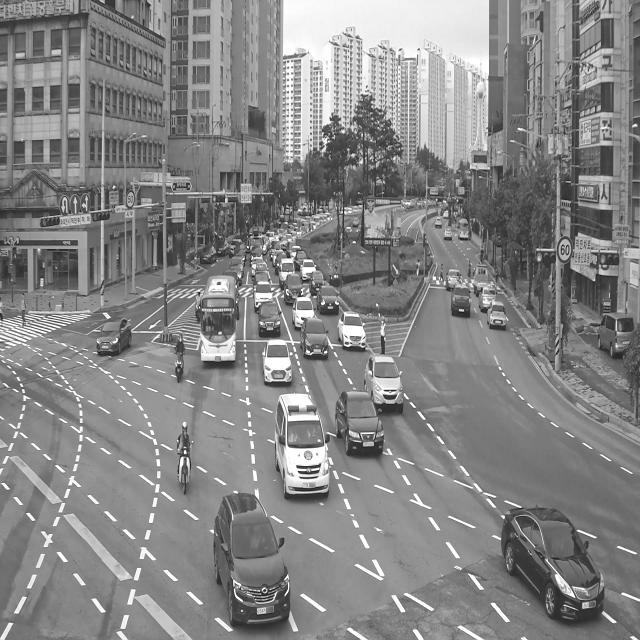Bus: (198, 267, 248, 375), (458, 216, 470, 242)
Car: (497, 478, 604, 638), (210, 482, 300, 640), (270, 387, 340, 505), (334, 381, 388, 470), (362, 334, 414, 413), (334, 290, 374, 366), (593, 302, 636, 360), (90, 307, 135, 362), (260, 328, 298, 393), (297, 304, 331, 364), (448, 277, 474, 326), (257, 300, 283, 336), (290, 297, 318, 329), (486, 298, 507, 333), (318, 285, 341, 315), (284, 273, 303, 302), (253, 282, 275, 307), (478, 286, 498, 311), (222, 269, 239, 295), (300, 258, 317, 283), (199, 242, 216, 266), (310, 270, 324, 296), (214, 236, 229, 257), (446, 268, 460, 290), (252, 274, 270, 291), (228, 254, 244, 272), (226, 263, 242, 278), (251, 257, 265, 273), (296, 251, 308, 268), (276, 253, 286, 273), (289, 244, 300, 262), (273, 248, 284, 266), (250, 246, 263, 260), (444, 226, 454, 244), (226, 237, 238, 252), (235, 245, 245, 263), (236, 240, 247, 256), (256, 262, 268, 274), (432, 216, 442, 230), (442, 209, 450, 219)
Motorcycle: (168, 410, 200, 500), (170, 330, 188, 389), (191, 281, 203, 328)
Truck: (472, 265, 493, 297), (278, 256, 296, 287)
